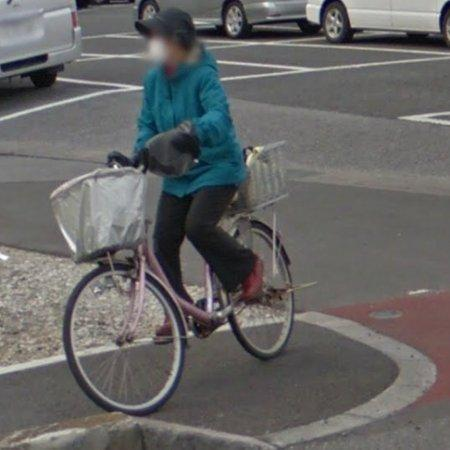bicycles: (51, 142, 296, 416)
